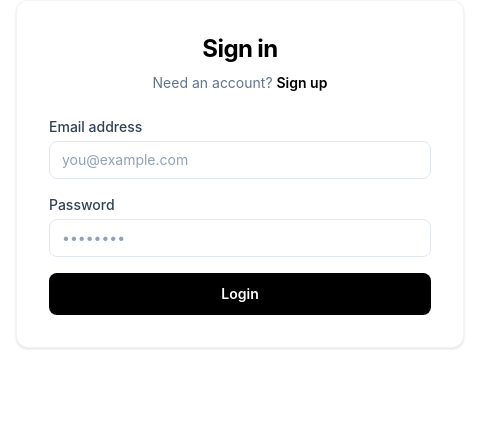
Test: LoginPage › displays API error message on login failure
The image size is (481, 436).
Type "user@example.com" into the field labelled "Email address" at (240, 160), box [49,141,431,179]
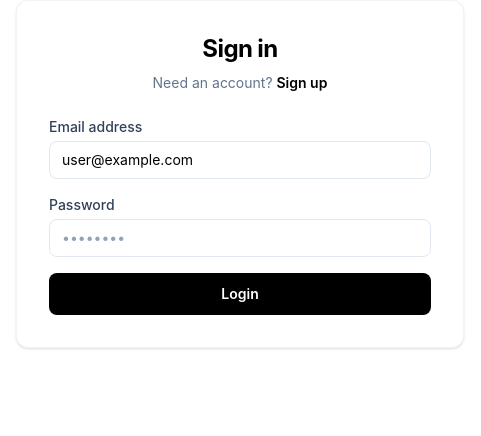
Type "wrongpassword" into the password field labelled "Password" at (240, 238), box [49,219,431,257]
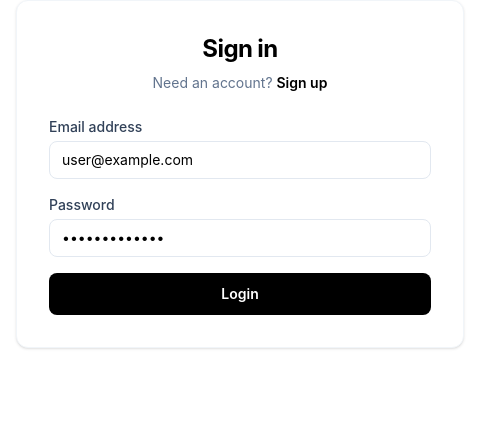
Click the button "Login" at (240, 294), box [49,273,431,315]
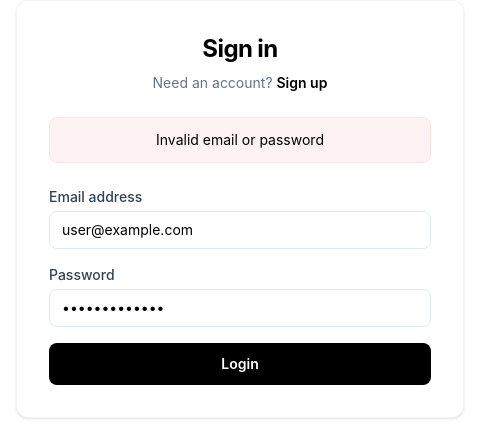
Expected: the text "Invalid email or password" is shown, [49,117,431,163]
